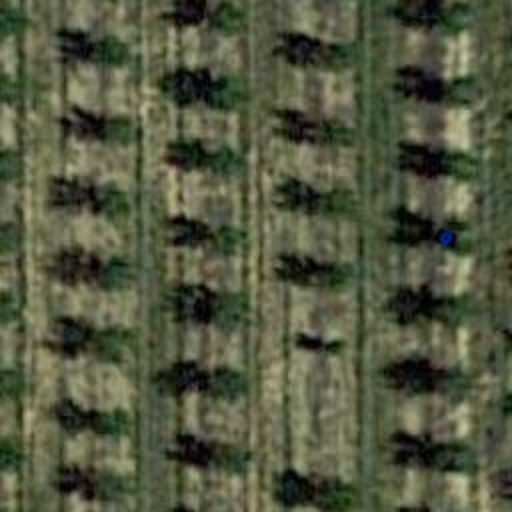trapezoid: (426, 218, 466, 258)
